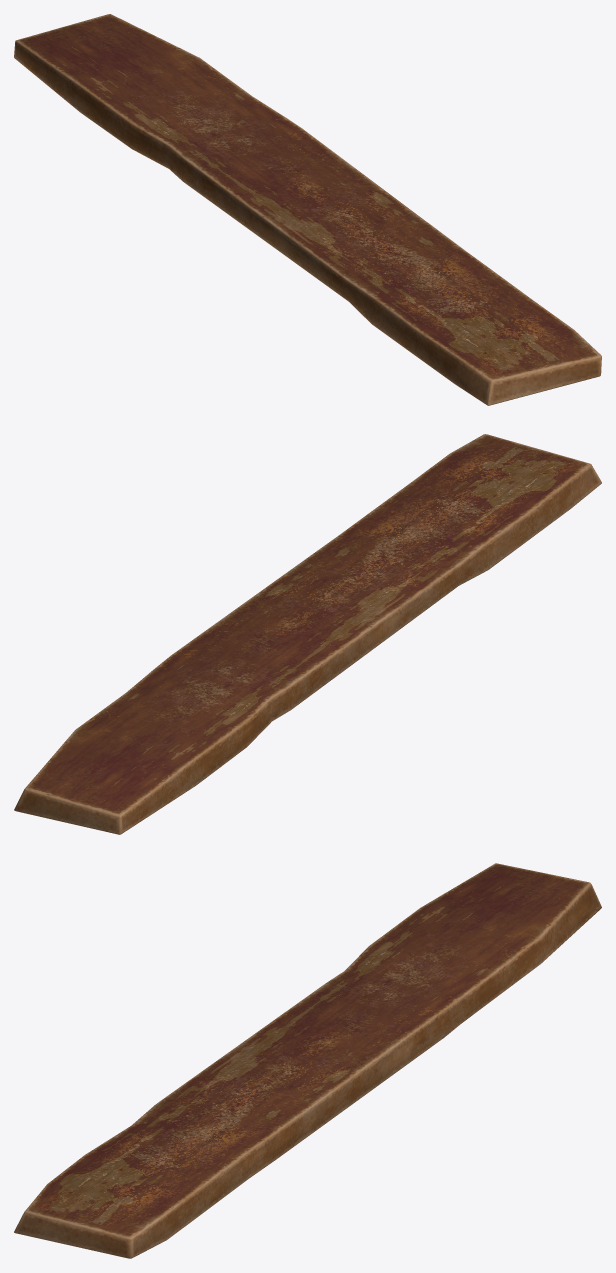
The model's file is SM_Wood_SM_Wood_a.fbx.
The picture shows the model from 3 angles, top to bottom: view 1: azimuth 30°, elevation 25°; view 2: azimuth 150°, elevation 25°; view 3: azimuth 330°, elevation 25°; orthographic projection.
Visible parts, largest first — view 1: SM_Wood_SM_Wood_a; view 2: SM_Wood_SM_Wood_a; view 3: SM_Wood_SM_Wood_a.
Part boxes in pixels (x1=…): SM_Wood_SM_Wood_a: x1=14, y1=14, x2=601, y2=405; SM_Wood_SM_Wood_a: x1=14, y1=434, x2=601, y2=834; SM_Wood_SM_Wood_a: x1=14, y1=863, x2=601, y2=1258.
Size of the model in its own units: 38.14 by 254 by 8.11.
Materials: 1 (1 with a texture image).
